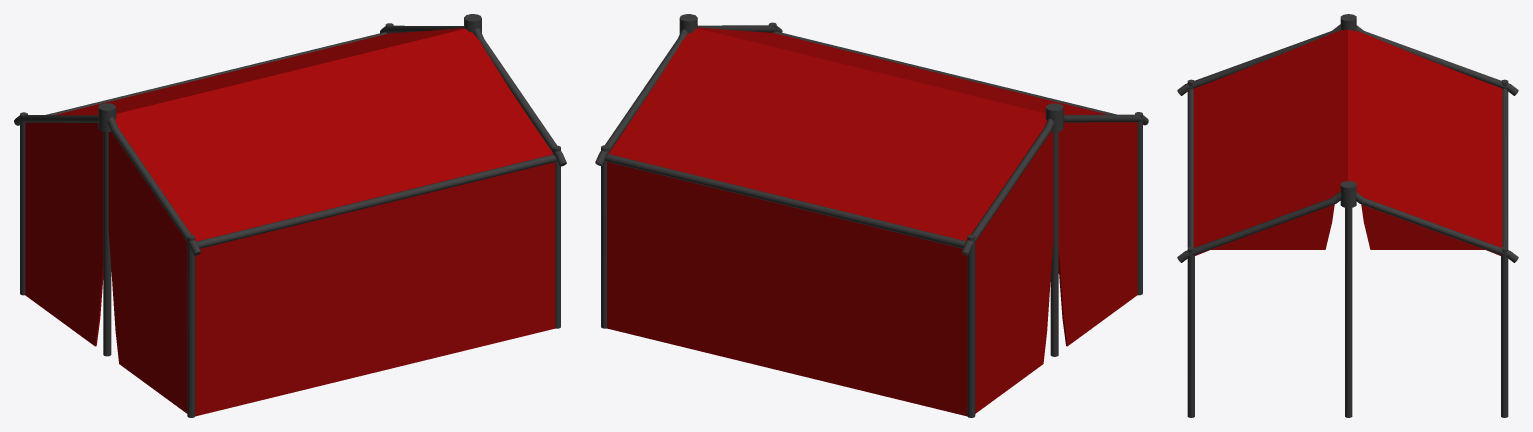
The model's file is SM_tent_01.fbx.
3 renders of one model, left to right at view 1: azimuth 30°, elevation 25°; view 2: azimuth 150°, elevation 25°; view 3: azimuth 270°, elevation 25°, orthographic. The views are drawn at different scales.
Parts seen in each view (by area): view 1: tent_01; view 2: tent_01; view 3: tent_01.
Boxes of the visible parts, x1,y1,x2,y2 form: tent_01: (14, 14, 566, 417); tent_01: (595, 14, 1148, 417); tent_01: (1177, 14, 1518, 417).
Bounding box in the file's own units: 501 × 311 × 415.
